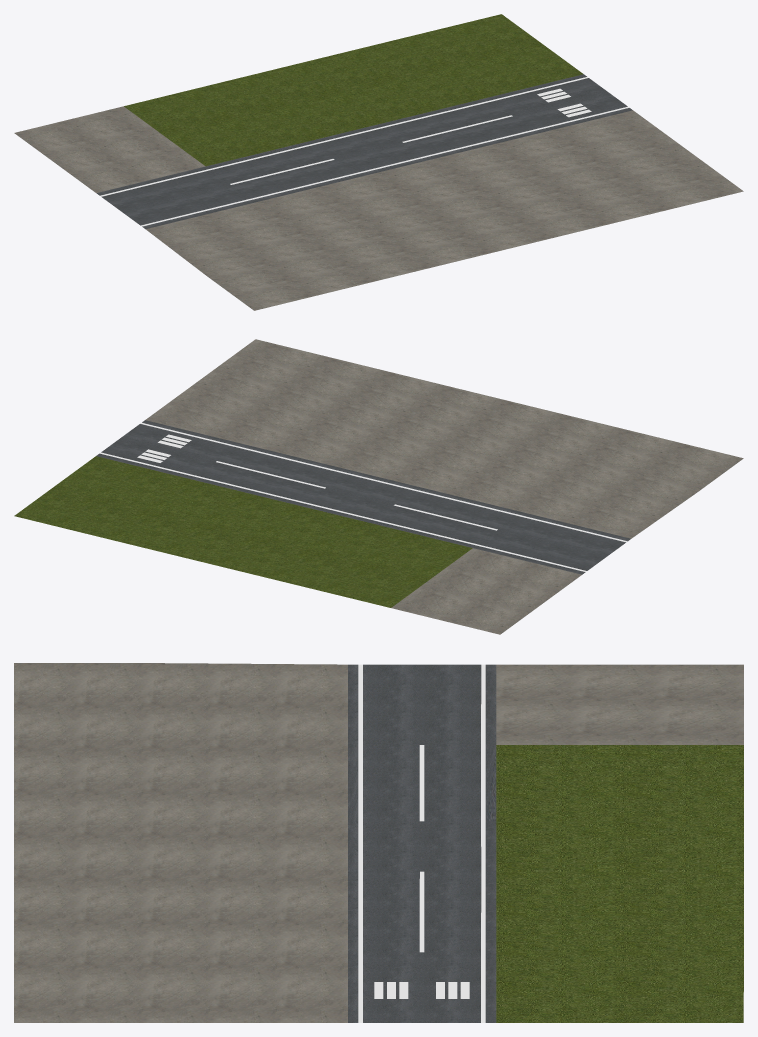
The model's file is lasrnway3_las.obj.
3 renders of one model, top to bottom at view 1: azimuth 30°, elevation 25°; view 2: azimuth 150°, elevation 25°; view 3: azimuth 270°, elevation 25°, orthographic. The views are drawn at different scales.
Parts seen in each view (by area): view 1: lasrnway3_LAS; view 2: lasrnway3_LAS; view 3: lasrnway3_LAS.
Part boxes in pixels (x1,y1,x2,y2): lasrnway3_LAS: (14, 14, 743, 310); lasrnway3_LAS: (14, 339, 743, 634); lasrnway3_LAS: (14, 663, 743, 1022).
Size of the model in its own units: 214 by 0.000282 by 183.
